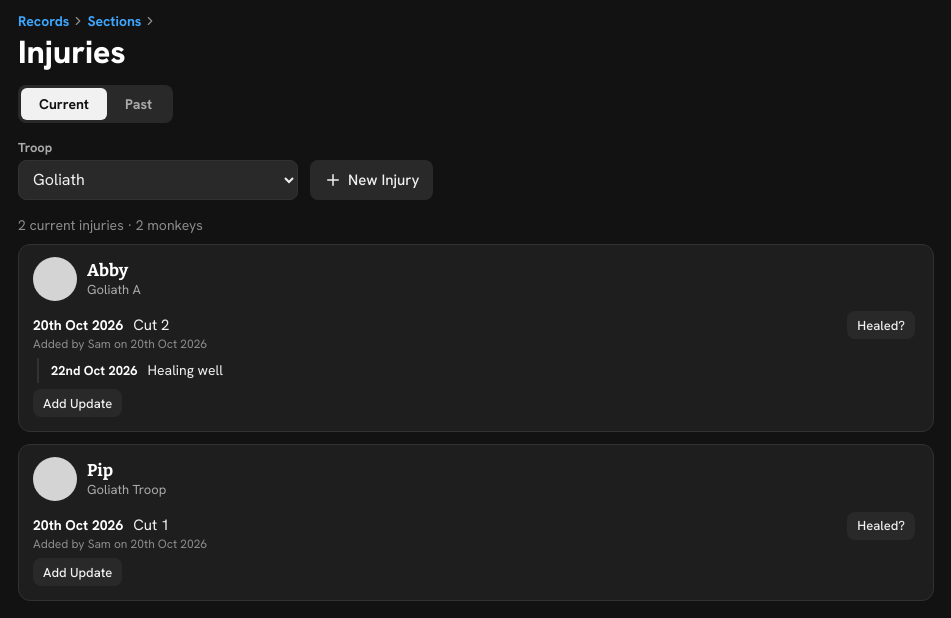
Test: a troop's current injuries, by monkey (its introcages too), with their updates; the troop is remembered
Expected: the heading "Injuries" is shown, [18,31,126,73]
Expected: the text "Cut 1" is shown, [133,515,170,535]
Select "Skrow" in the dropdown labelled "Troop": (158, 180) [18,160,298,200]
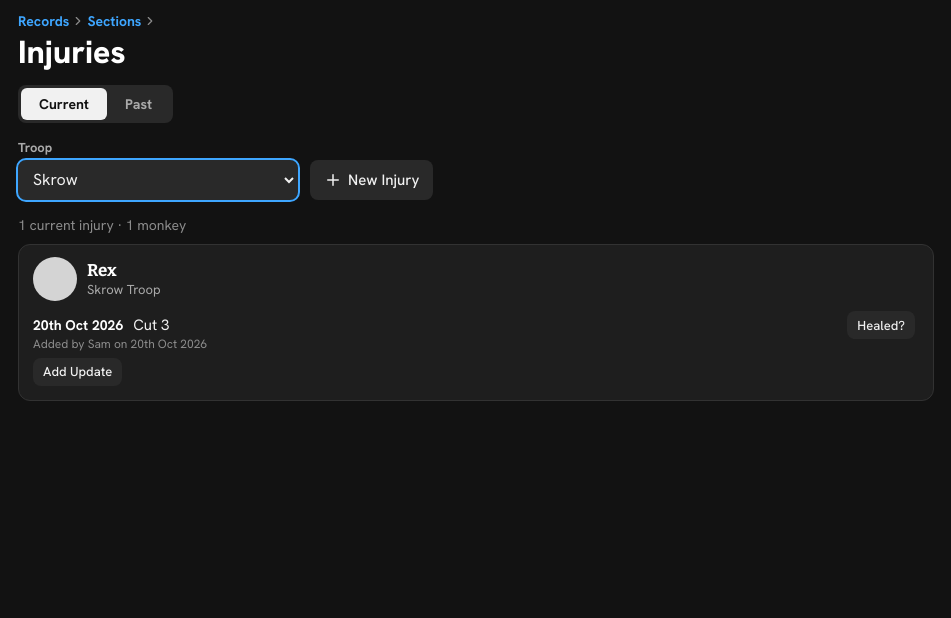
Result: the text "Cut 3" is shown at [133,315,170,335]
Result: the text "Cut 1" is gone
